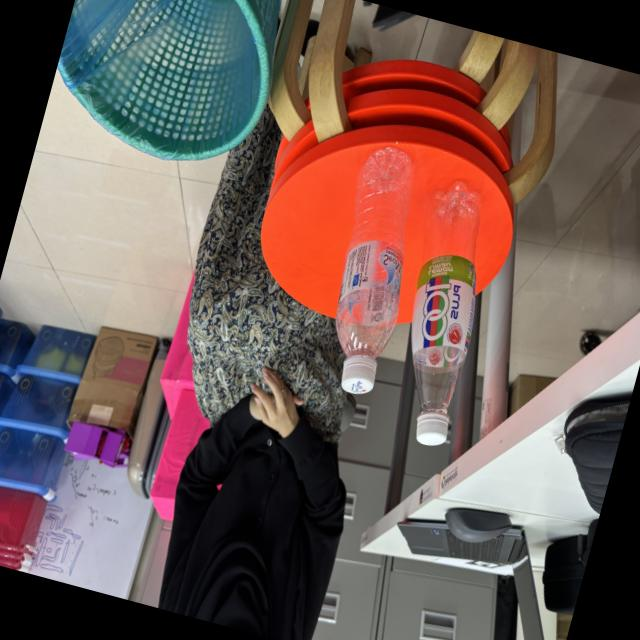dustbin: (38, 0, 301, 192)
plastic_bottle: (368, 164, 520, 461), (300, 140, 441, 406)
